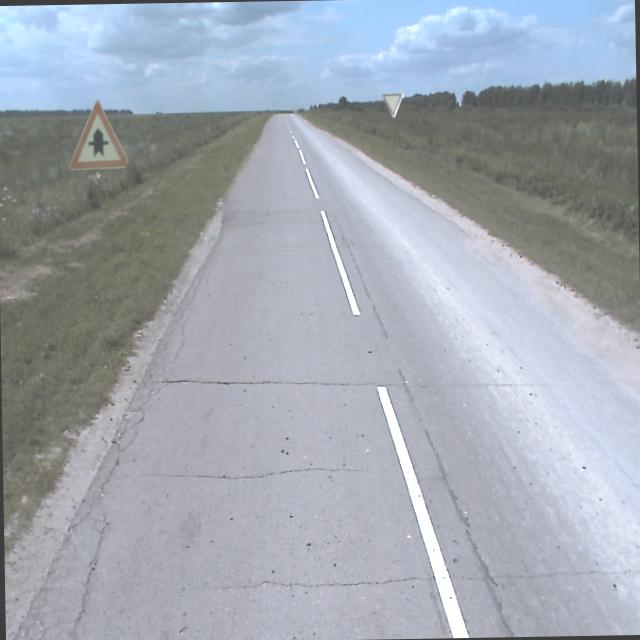road: (10, 109, 640, 640)
